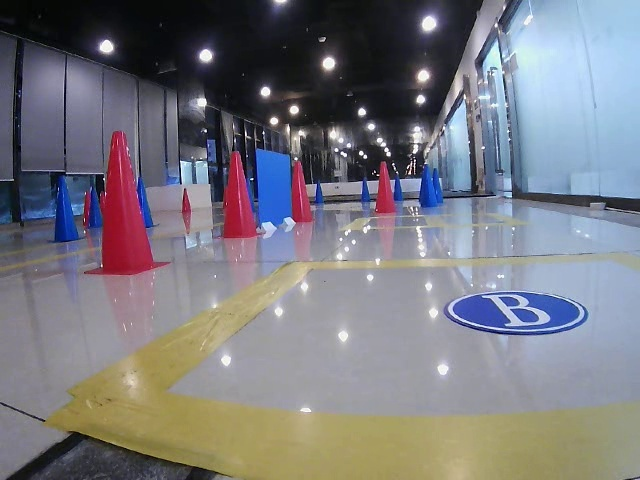B: (448, 287, 583, 331)
